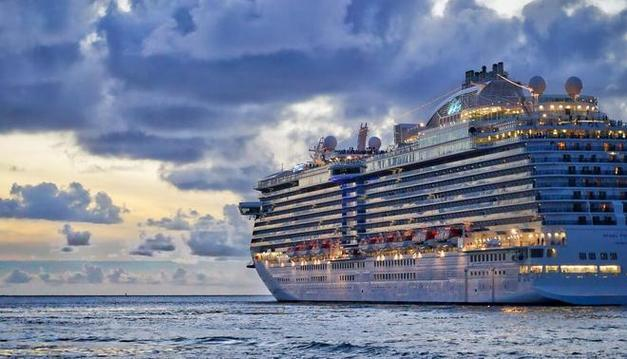Ship: (237, 92, 626, 308)
